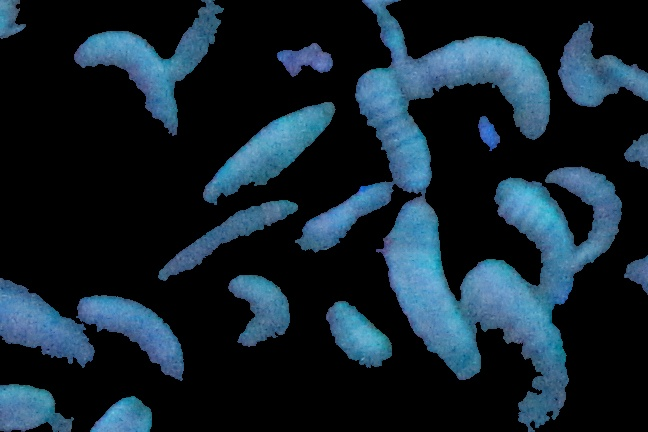larvae: (465, 261, 569, 429), (383, 204, 481, 381), (423, 34, 548, 142), (201, 103, 332, 206), (151, 199, 298, 279), (73, 28, 179, 138), (1, 267, 102, 372), (493, 176, 573, 308), (358, 67, 432, 191), (79, 296, 185, 379), (547, 161, 623, 268), (295, 182, 391, 248), (165, 1, 226, 83), (561, 19, 612, 109), (92, 389, 170, 432)
